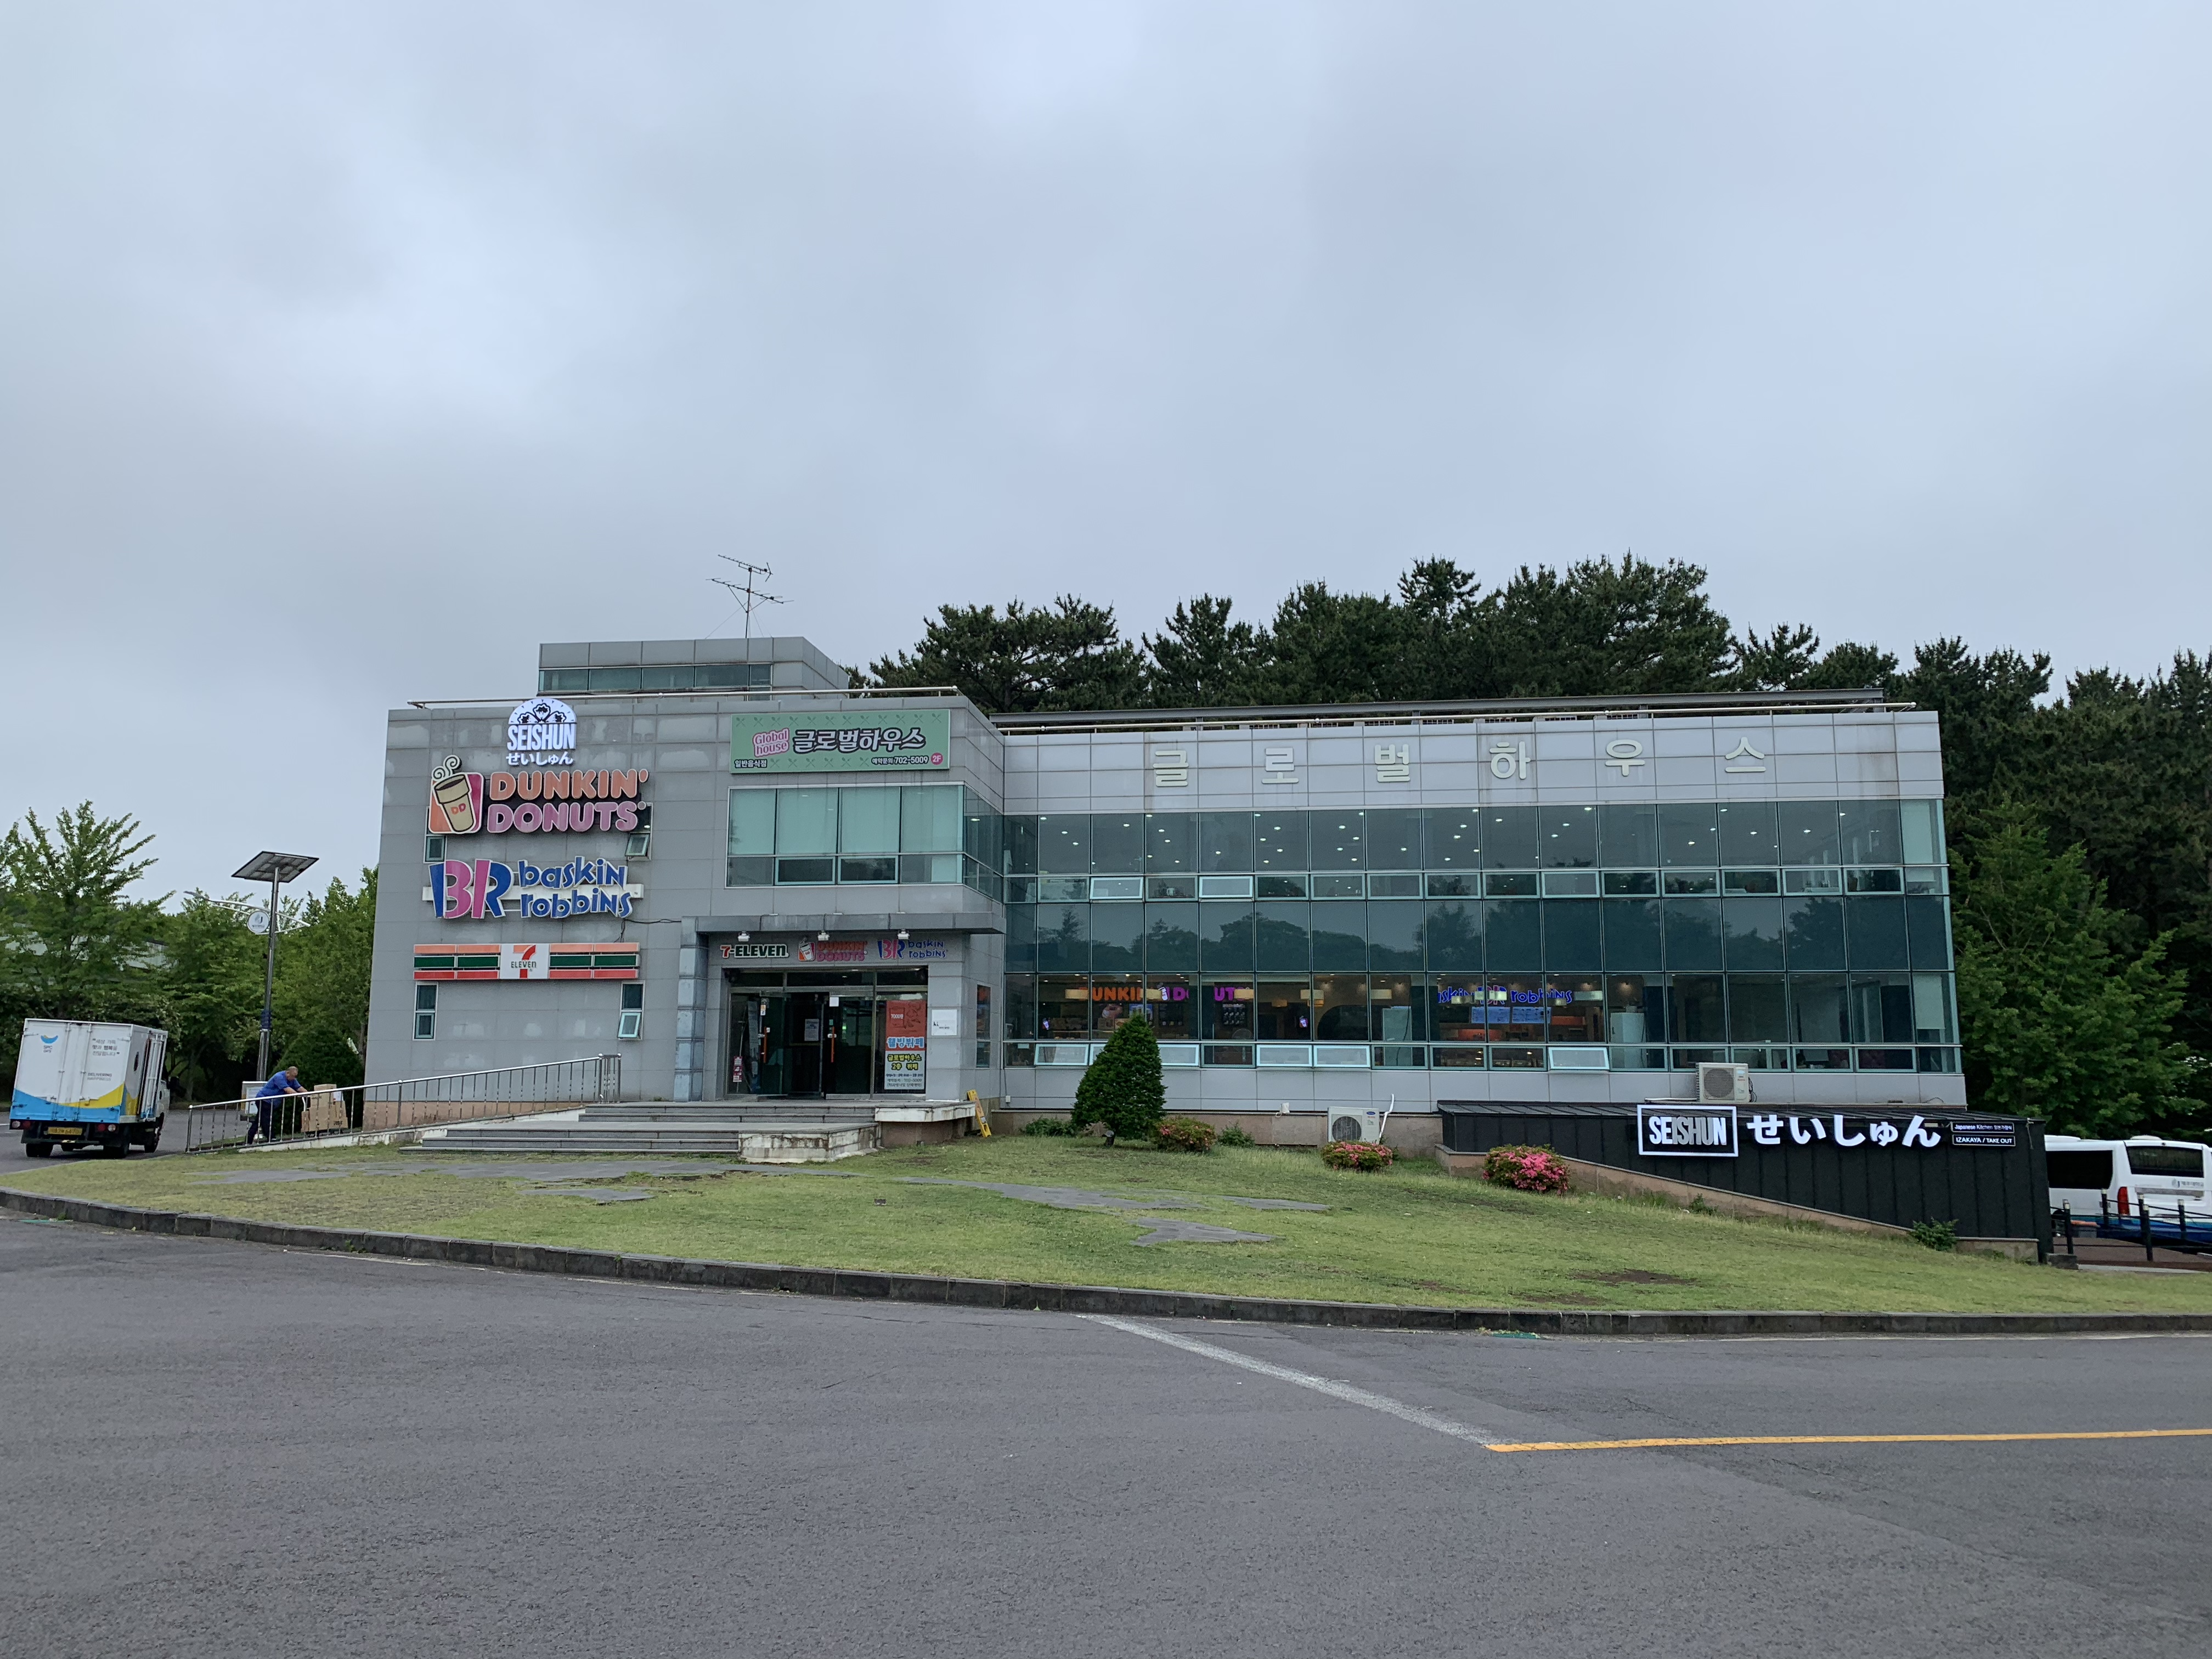Global House: (374, 622, 1986, 1171)
